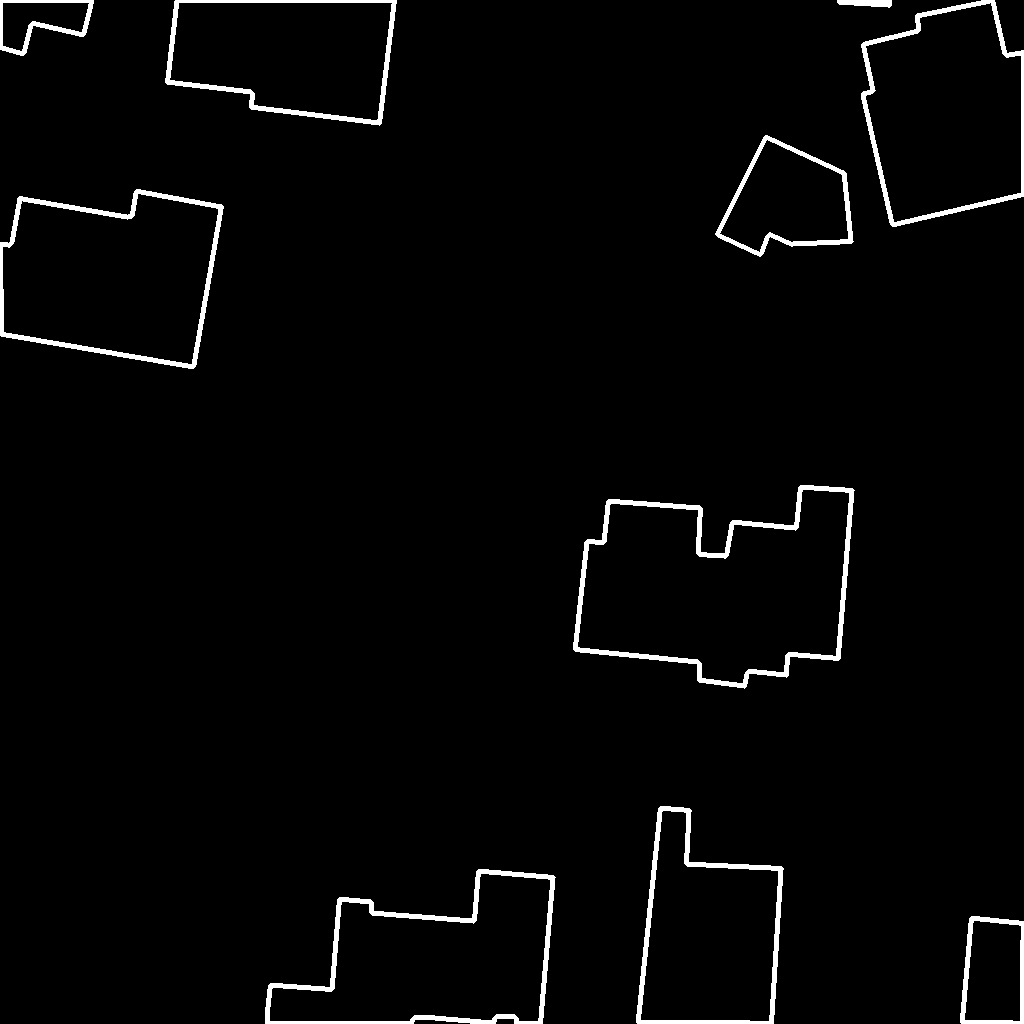building: (575, 487, 853, 687), (267, 871, 554, 1024), (0, 191, 223, 368), (863, 0, 1024, 226), (638, 808, 782, 1024), (167, 0, 396, 124), (717, 137, 852, 256), (962, 918, 1024, 1024), (0, 0, 93, 55), (839, 0, 891, 6)
